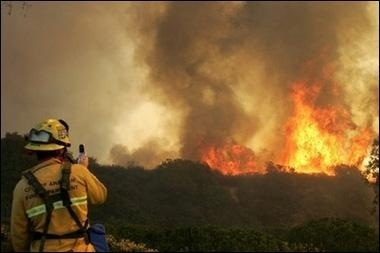fire: (277, 76, 379, 180), (198, 139, 268, 177)
